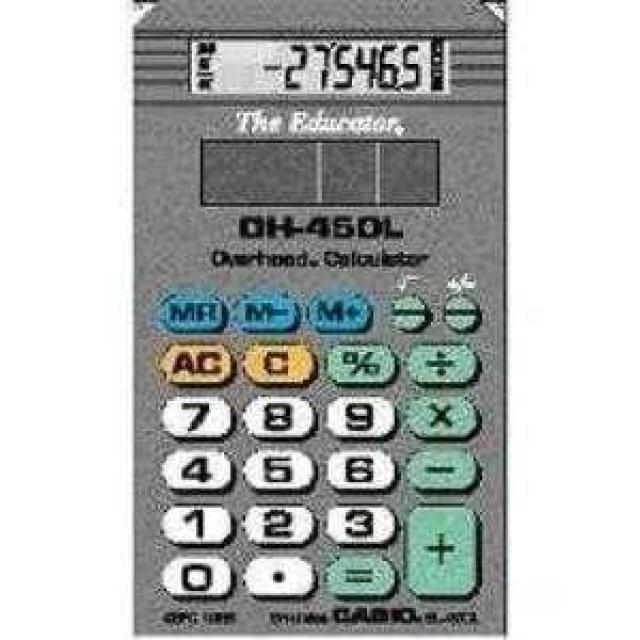Calculator: (128, 0, 508, 638)
